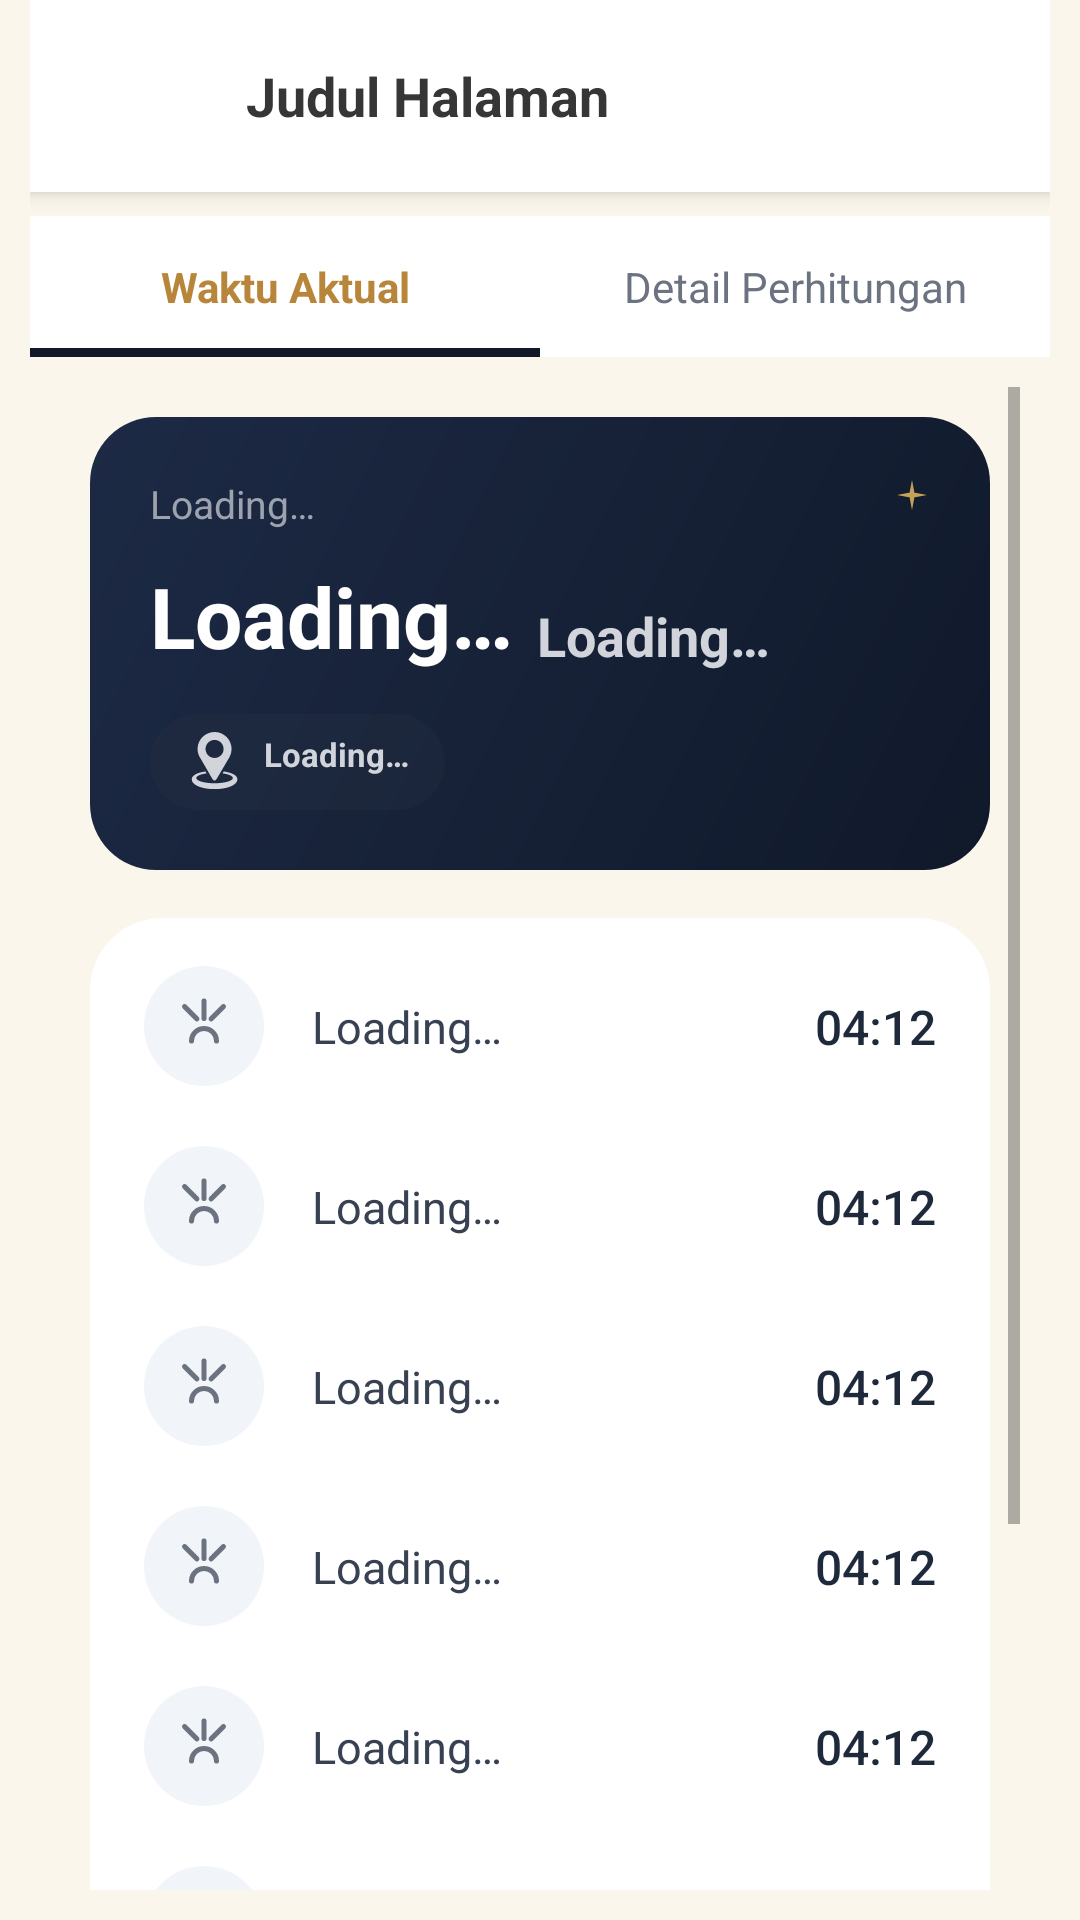

Where icons sit on this 1080px×1920px app screen, as (x1, y1, x2, y2):
sparkle: (898, 481, 926, 509)
